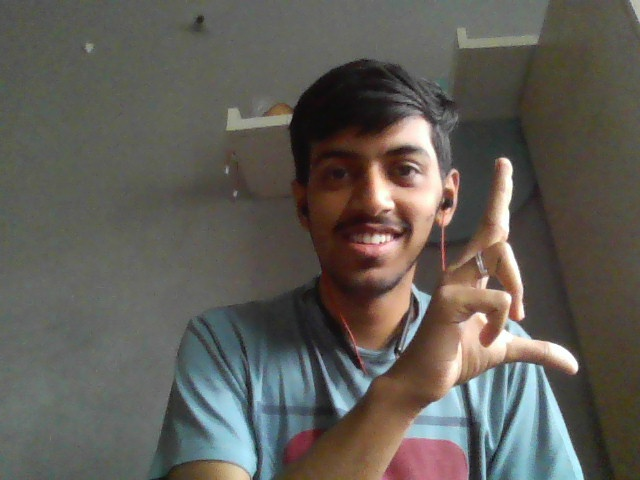No: (462, 163, 586, 388)
